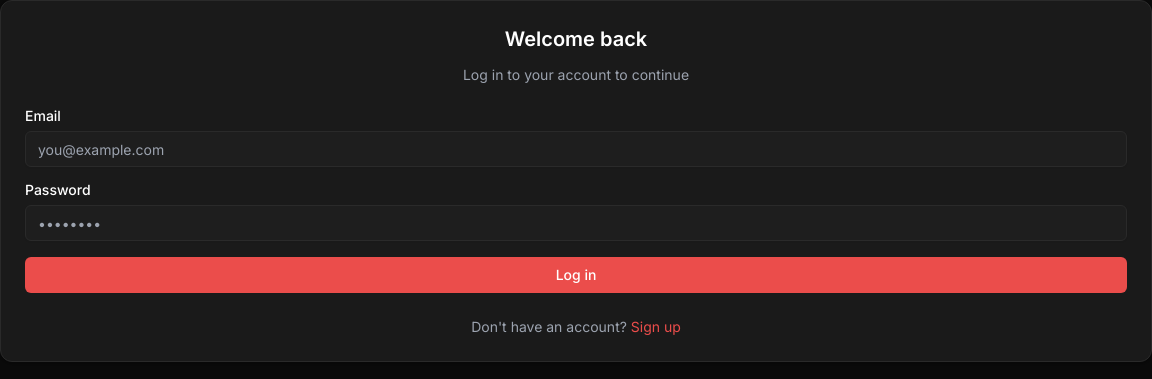
Scenario: LoginForm › disables form inputs while loading
This screenshot has width=1152, height=379.
Type "test@example.com" into the field labelled "Email" at coordinates (576, 149), box [25,131,1127,167]
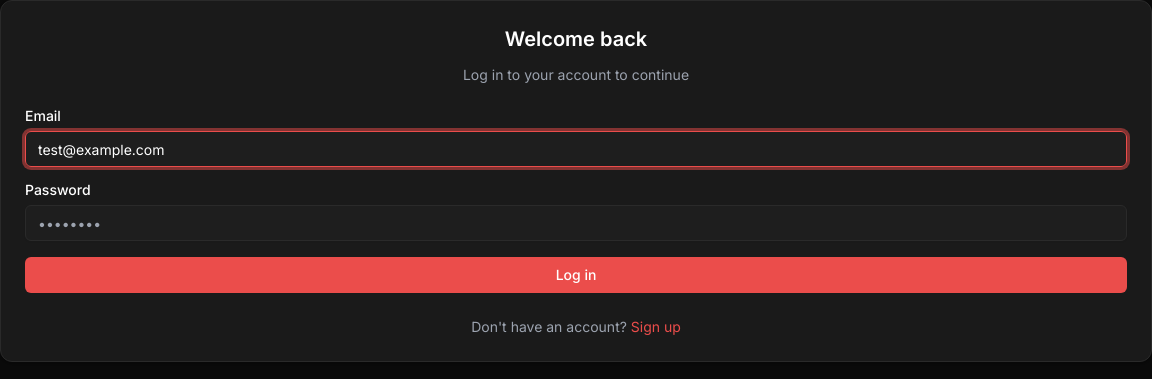
Type "password123" into the password field labelled "Password" at coordinates (576, 223), box [25,205,1127,241]
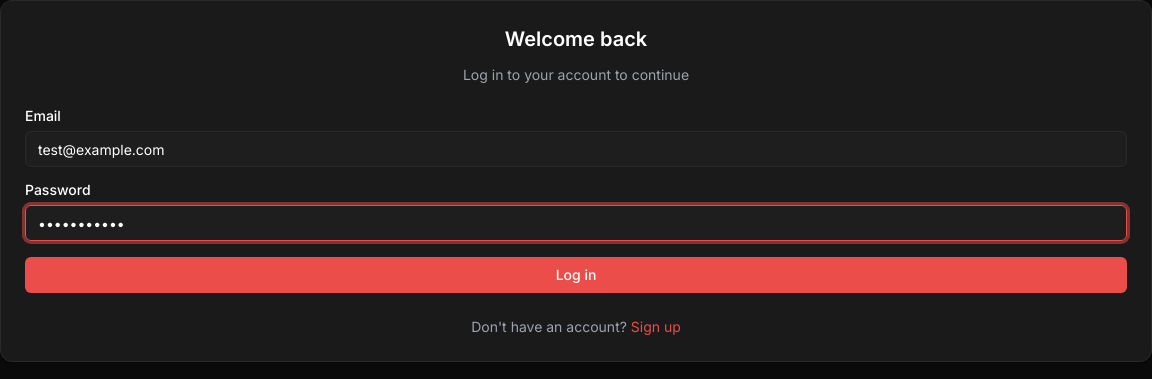
Click the button "Log in" at coordinates (576, 275), box [25,257,1127,293]
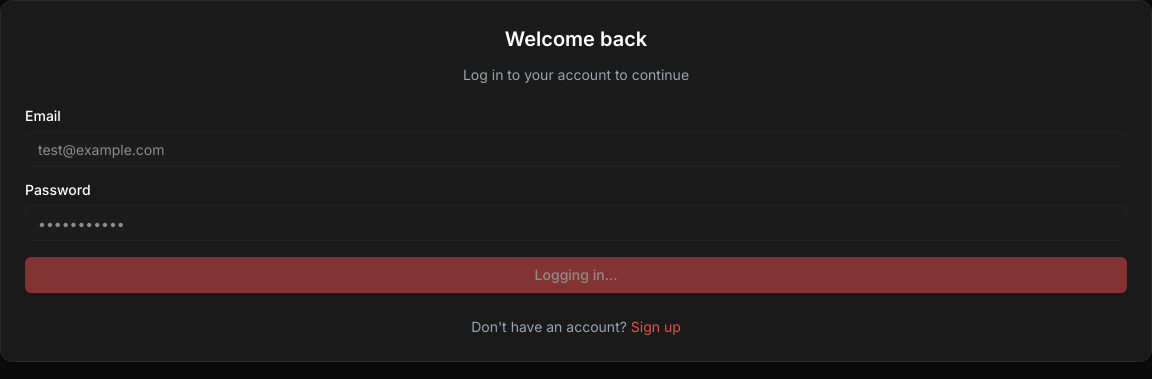
Check: the field labelled "Email" is disabled, box [25,131,1127,167]
Check: the password field labelled "Password" is disabled, box [25,205,1127,241]
Check: the button named "log in" is disabled, box [25,257,1127,293]
